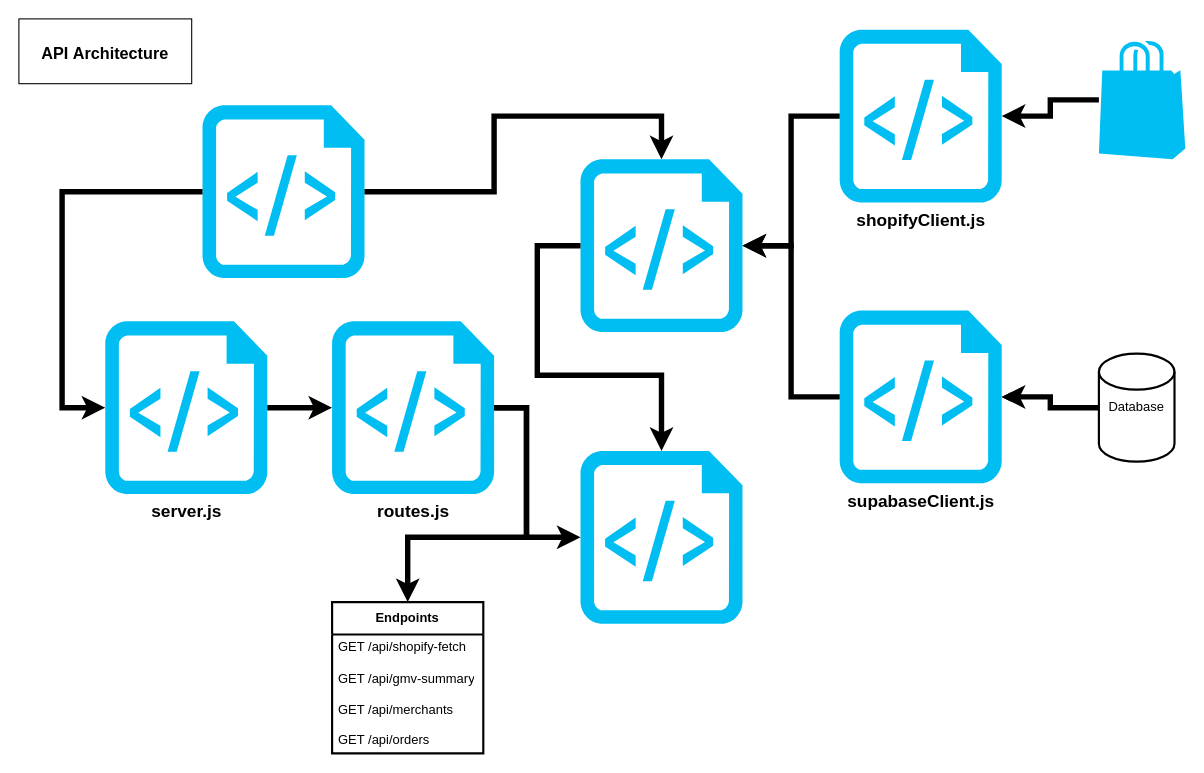
Some shapes in this 1204 by 773 pixel diagram are drawn without their labels. The shapes that lost their labels are listed below. From the top down, each one's centre as x and y in pixels, then its label:
At point 1141,99: "Shopify API".
At point 283,191: "scheduler.js".
At point 661,245: "apiService .js".
At point 661,536: "apiController .js".
